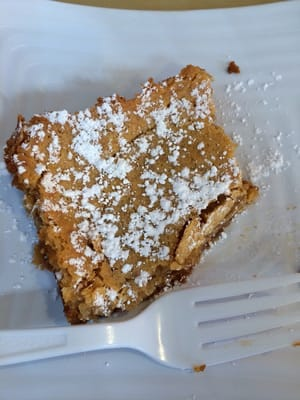burger: (1, 271, 299, 385)
